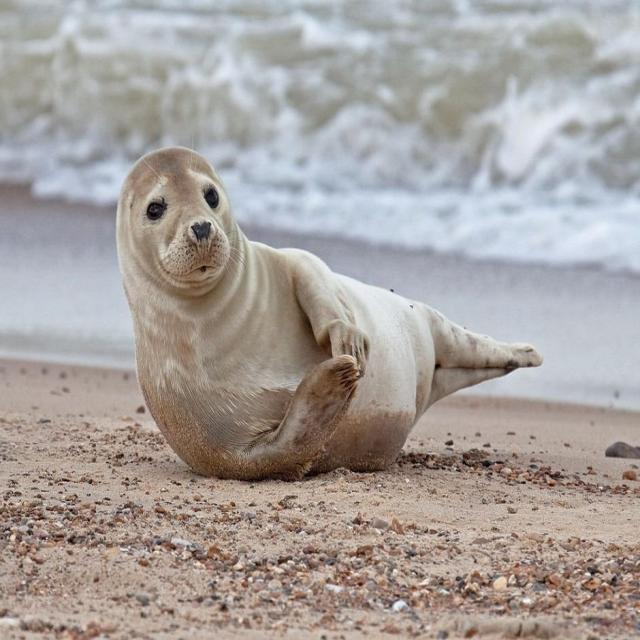seal: (116, 147, 542, 478)
